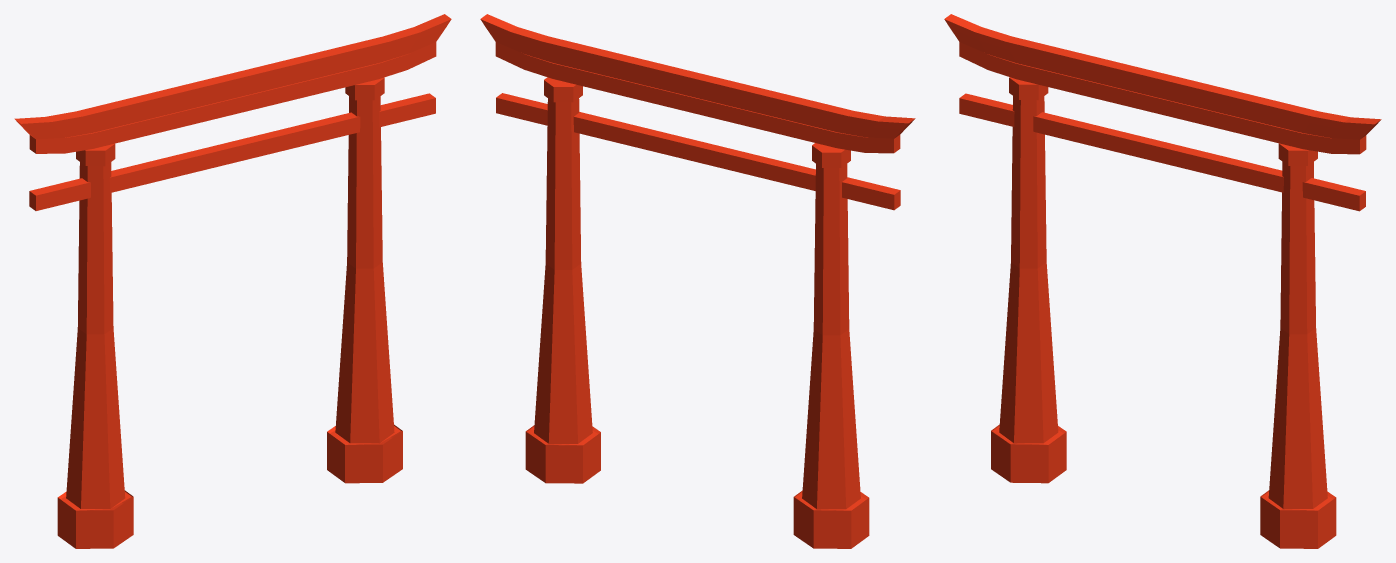
File: Torii_Japanese_Gate_Low_Poly.glb
The picture shows the model from 3 angles, left to right: view 1: azimuth 30°, elevation 25°; view 2: azimuth 150°, elevation 25°; view 3: azimuth 330°, elevation 25°; orthographic projection.
Parts seen in each view (by area): view 1: Cylinder.001_0, Cylinder.001_1; view 2: Cylinder.001_0, Cylinder.001_1; view 3: Cylinder.001_0, Cylinder.001_1.
Boxes of the visible parts, x1,y1,x2,y2 form: Cylinder.001_0: [29, 42, 436, 508]; Cylinder.001_1: [14, 14, 451, 548]; Cylinder.001_0: [495, 42, 900, 509]; Cylinder.001_1: [480, 14, 915, 548]; Cylinder.001_0: [959, 42, 1366, 508]; Cylinder.001_1: [944, 14, 1381, 548].
Bounding box in the file's own units: 17.85 × 17.22 × 2.6.
